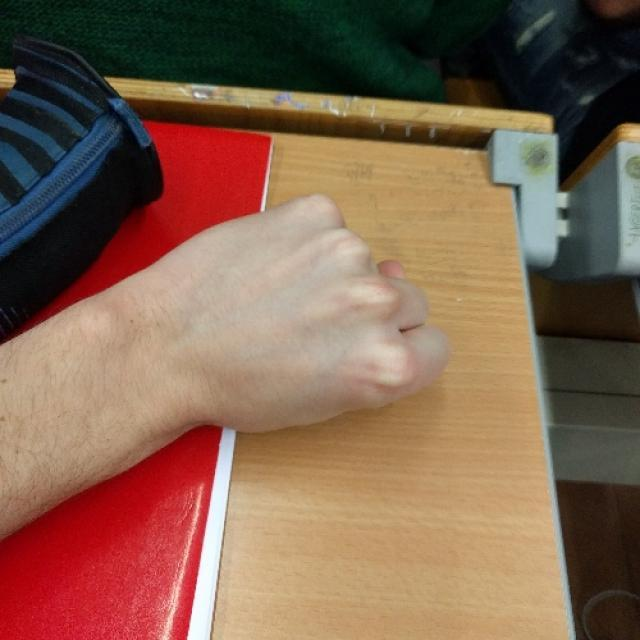rock: (199, 191, 452, 432)
